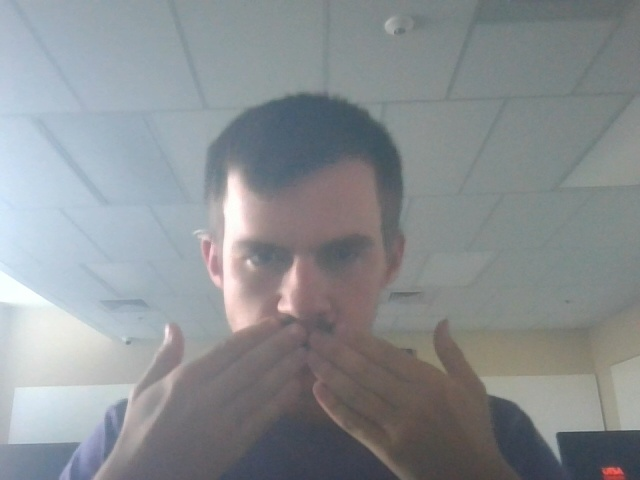thanks: (108, 304, 531, 470)
